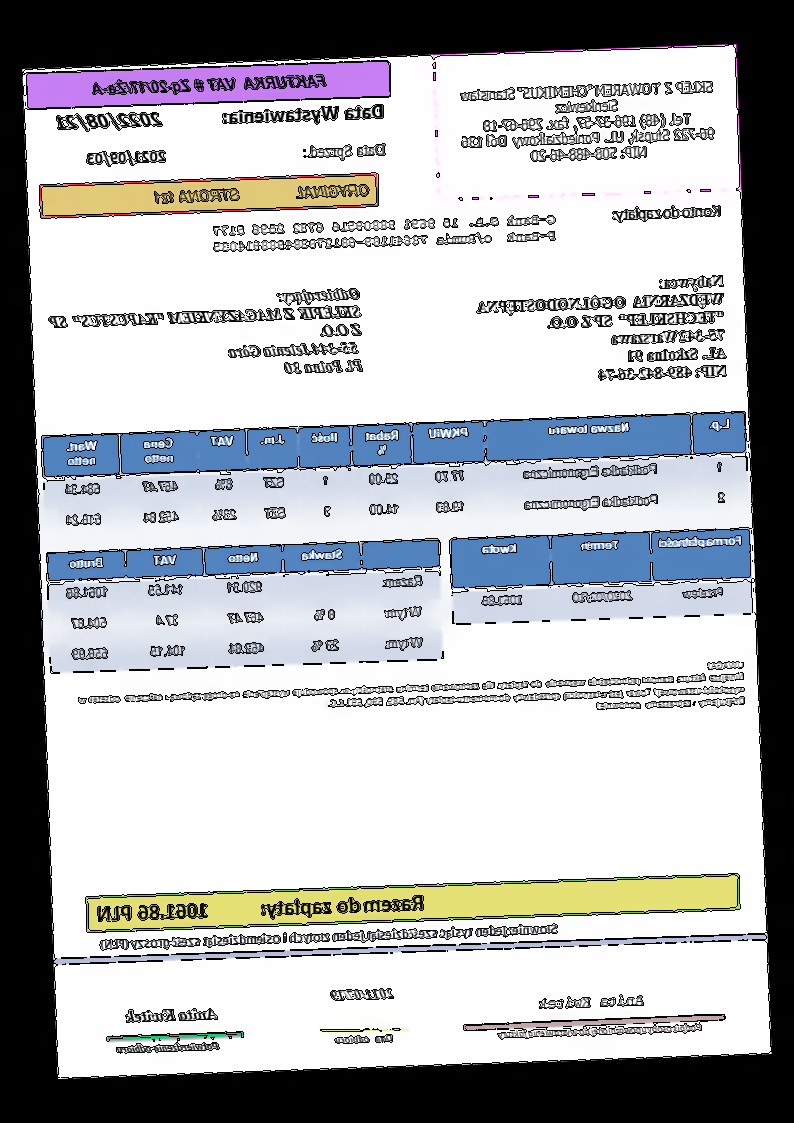Table: (40, 407, 751, 544), (45, 538, 447, 675), (447, 525, 755, 627)
TextBox: (74, 656, 748, 732), (46, 286, 367, 388), (471, 271, 731, 391), (454, 75, 722, 169), (98, 918, 561, 953), (209, 211, 562, 255), (94, 889, 427, 925), (86, 67, 332, 100), (152, 180, 372, 208), (219, 100, 388, 130), (493, 1020, 706, 1041), (53, 106, 164, 133), (610, 201, 726, 225), (539, 992, 647, 1011), (299, 140, 391, 162), (121, 1005, 222, 1025), (84, 148, 169, 169), (112, 1040, 221, 1056), (326, 985, 396, 1003), (330, 1031, 395, 1046)
